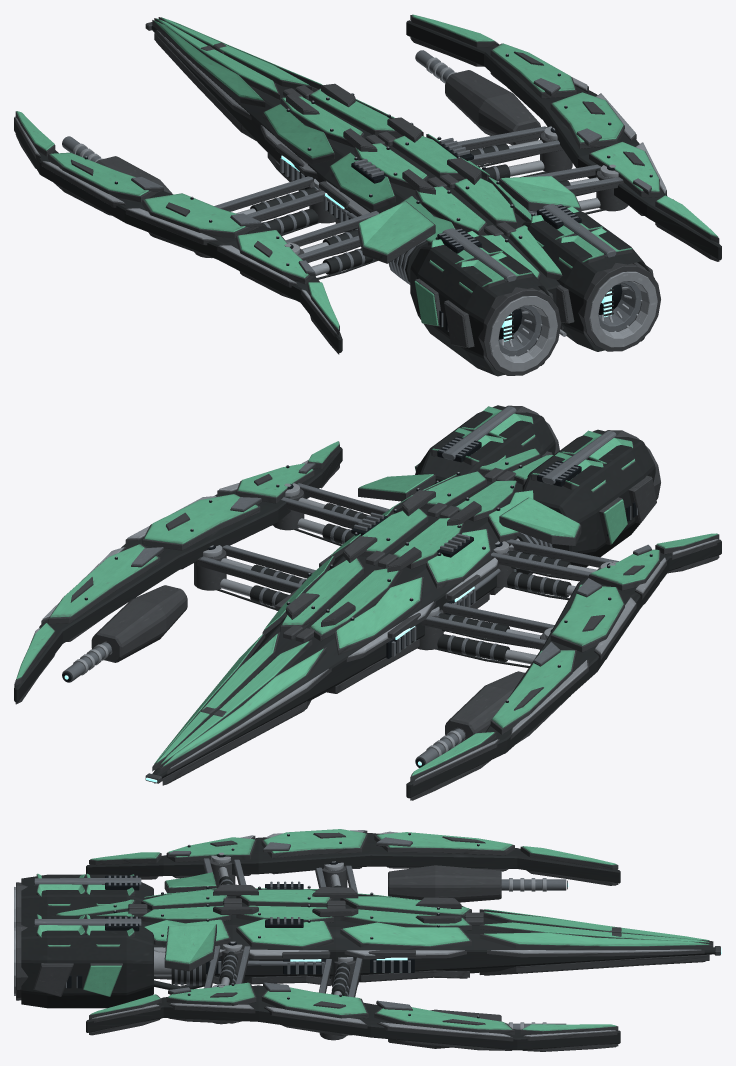
File: skirmisher.glb
3 views of the same model, one above another, from view 1: azimuth 30°, elevation 25°; view 2: azimuth 150°, elevation 25°; view 3: azimuth 270°, elevation 25° (orthographic). The views are drawn at different scales.
Parts seen in each view (by area): view 1: Skirmisher.001; view 2: Skirmisher.001; view 3: Skirmisher.001.
Part boxes in pixels (box(x1,y1,x2,y2)): Skirmisher.001: box(14, 14, 721, 376); Skirmisher.001: box(14, 405, 721, 800); Skirmisher.001: box(14, 829, 721, 1051).
Bounding box in the file's own units: 5.03 × 0.9747 × 7.75.
7 materials, 7 textured.
